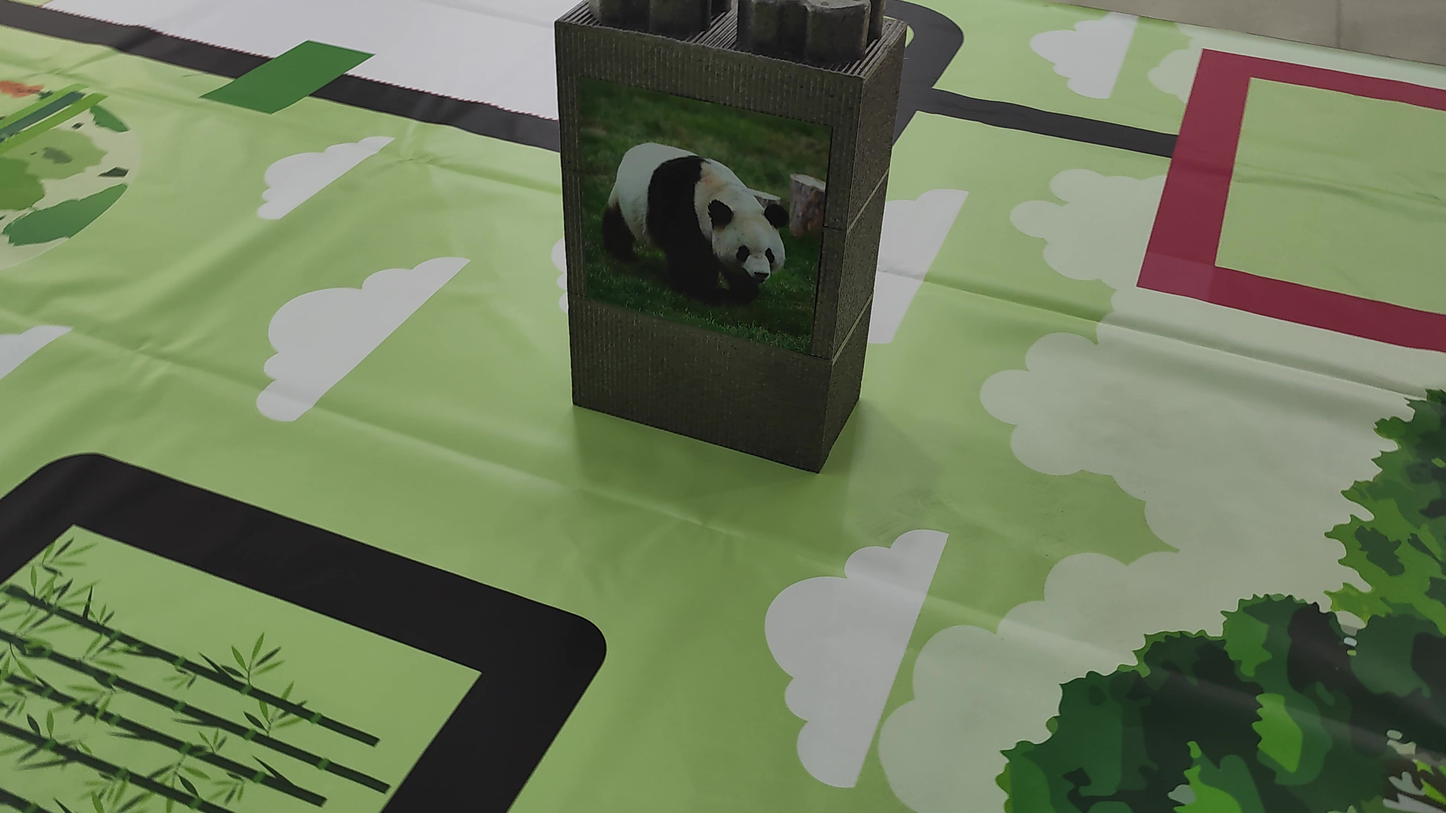panda: (585, 146, 813, 335)
